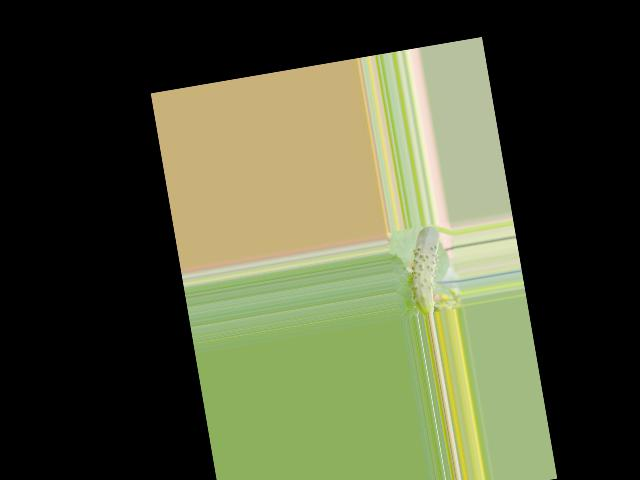cucumber: (401, 224, 451, 315)
